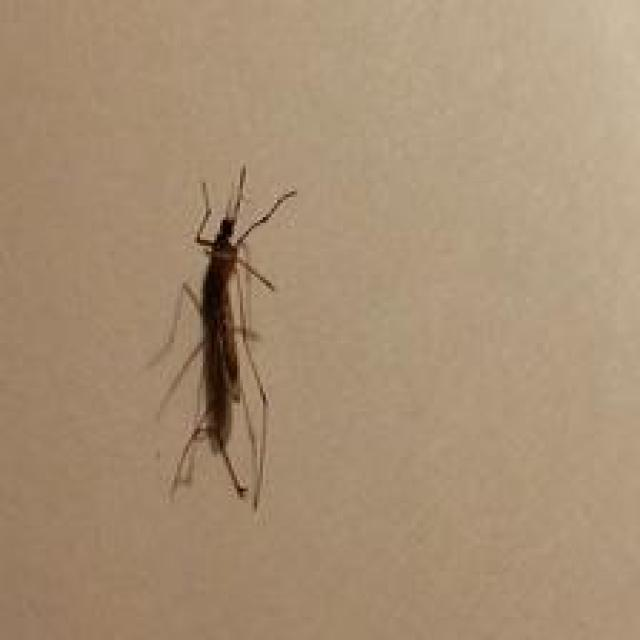Culex: (146, 163, 297, 511)
